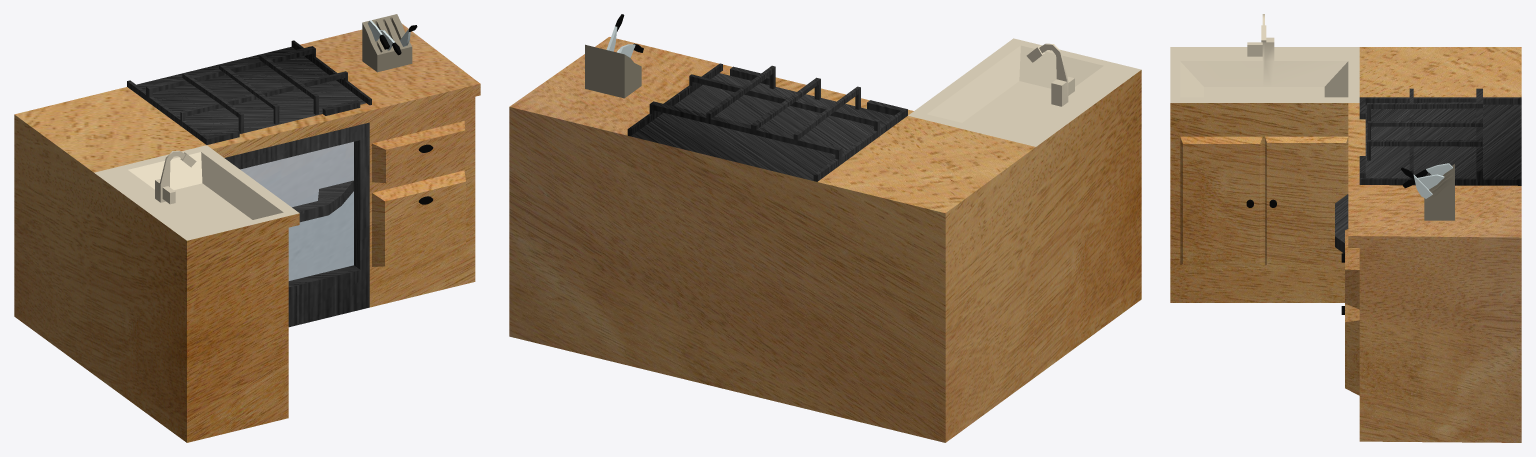
Rendered from Kitchen.fbx.
3 renders of one model, left to right at view 1: azimuth 30°, elevation 25°; view 2: azimuth 150°, elevation 25°; view 3: azimuth 270°, elevation 25°, orthographic. The views are drawn at different scales.
Visible parts, largest first — view 1: Kitchen, pCube12; view 2: Kitchen, pCube12; view 3: Kitchen, pCube12.
Boxes of the visible parts, x1,y1,x2,y2 form: Kitchen: [14, 24, 480, 442]; pCube12: [362, 14, 417, 72]; Kitchen: [509, 37, 1141, 442]; pCube12: [585, 14, 643, 98]; Kitchen: [1170, 14, 1521, 442]; pCube12: [1401, 163, 1454, 220].
Bounding box in the file's own units: 13.91 × 8.68 × 10.84.
7 materials, 3 textured.
